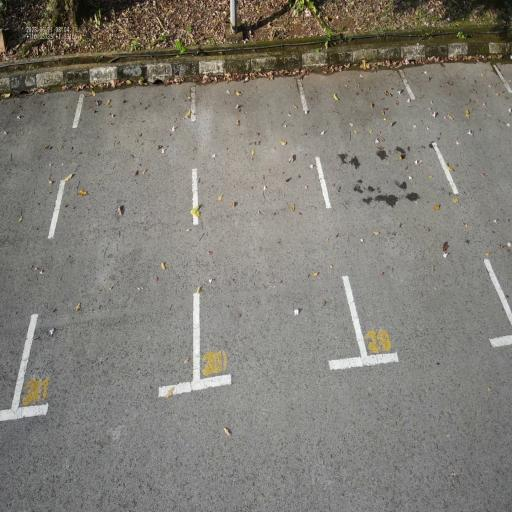Empty: (6, 74, 208, 429), (188, 70, 375, 394)
